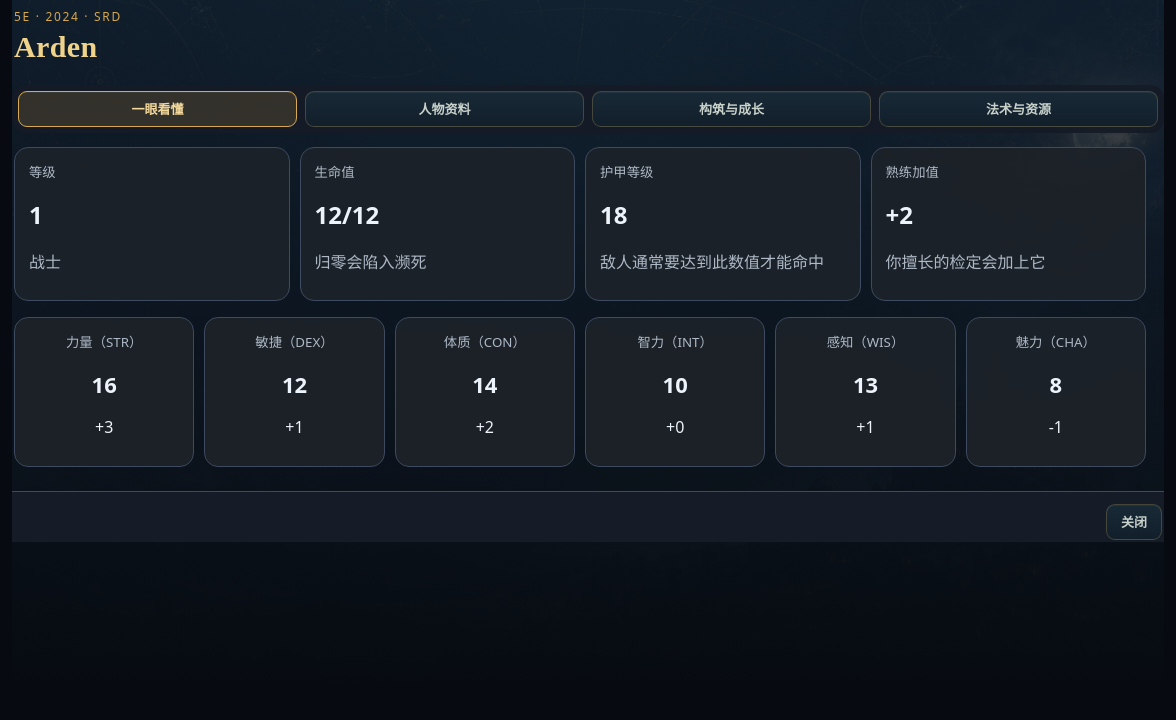
ProfessionalCharacterCenter › shows no class feature or class resource section without a server projection
Click the button "法术与资源".
click(1018, 108)  # box left=879, top=90, right=1158, bottom=126
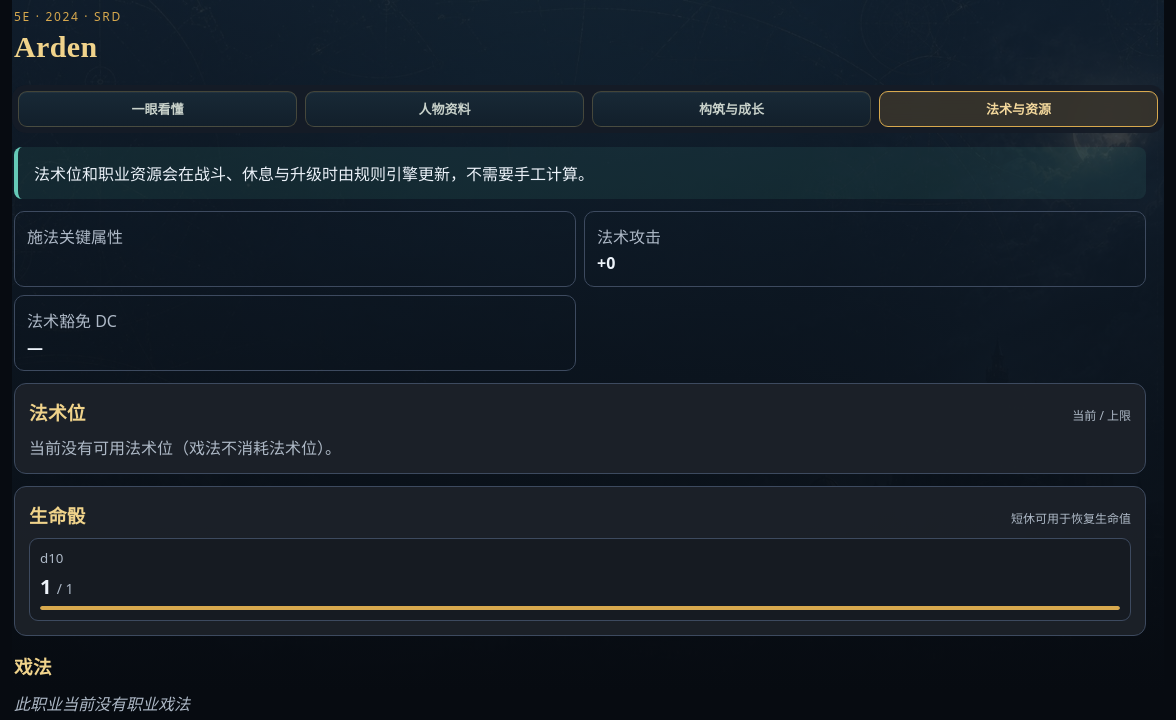
Now the number of elements with class "spell-slot-card" is 1, box left=29, top=538, right=1131, bottom=620
